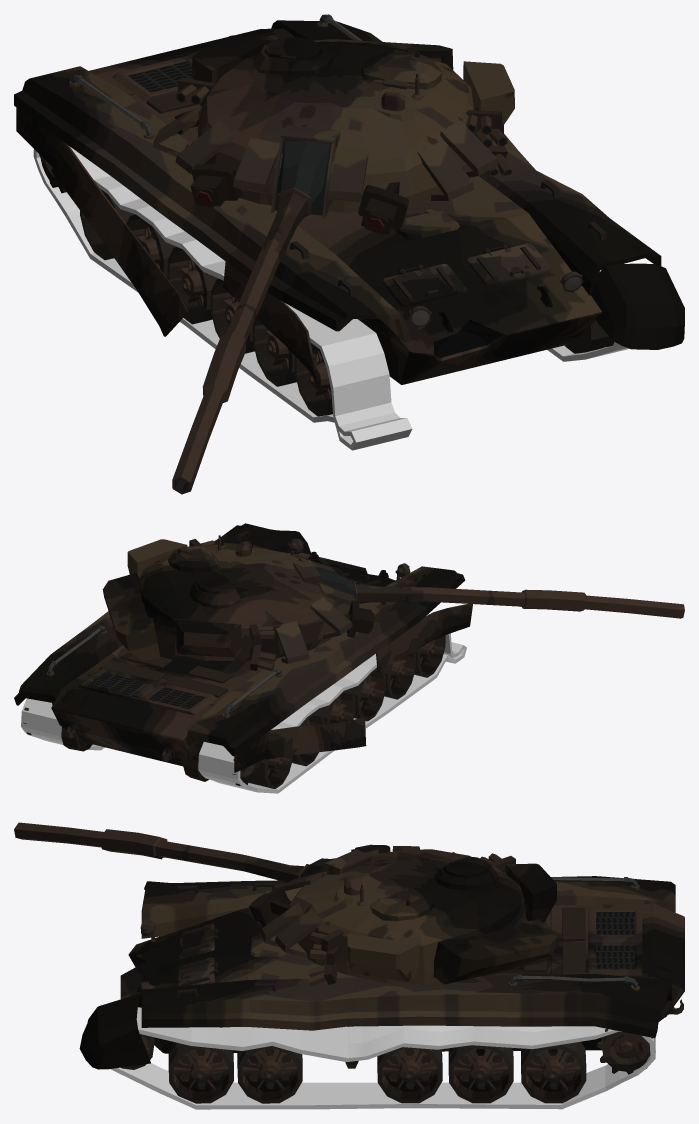
The model's file is SM_Veh_Tank_Russian_01_Destroyed.fbx.
The picture shows the model from 3 angles, top to bottom: view 1: azimuth 30°, elevation 25°; view 2: azimuth 150°, elevation 25°; view 3: azimuth 270°, elevation 25°; orthographic projection. The views are drawn at different scales.
Visible parts, largest first — view 1: SM_Veh_Tank_Russian_01_Destroyed; view 2: SM_Veh_Tank_Russian_01_Destroyed; view 3: SM_Veh_Tank_Russian_01_Destroyed.
Boxes of the visible parts, left/top/right/bottom form: SM_Veh_Tank_Russian_01_Destroyed: left=14, top=14, right=684, bottom=494; SM_Veh_Tank_Russian_01_Destroyed: left=14, top=523, right=684, bottom=793; SM_Veh_Tank_Russian_01_Destroyed: left=14, top=822, right=684, bottom=1109.
Size of the model in its own units: 732 by 279 by 922.
